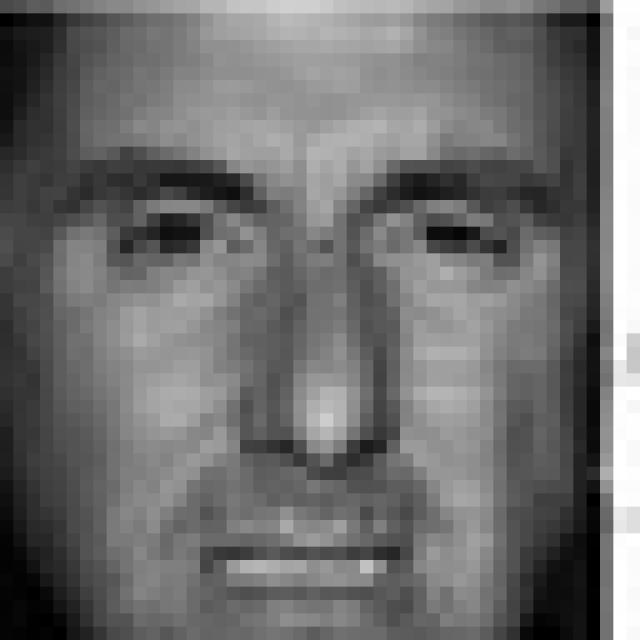disgust: (77, 145, 569, 640)
